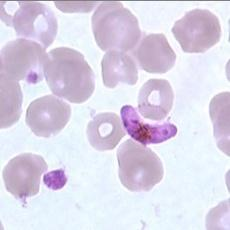Infected: (120, 103, 179, 143)
Uninfected: (43, 47, 96, 104), (115, 140, 164, 191), (172, 9, 223, 53), (2, 151, 48, 197), (13, 4, 59, 47), (26, 94, 71, 137), (0, 39, 47, 80), (95, 8, 140, 50), (137, 33, 178, 76), (139, 77, 175, 119), (100, 50, 139, 88), (87, 112, 125, 150)
